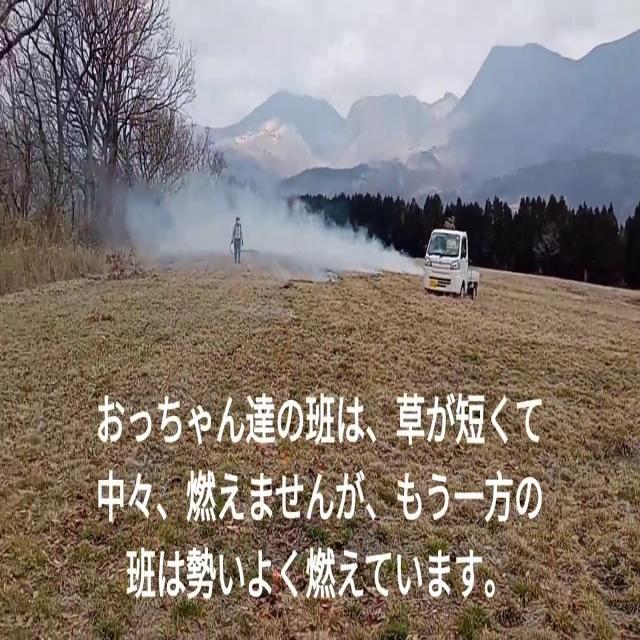Smoke: (118, 136, 408, 287)
